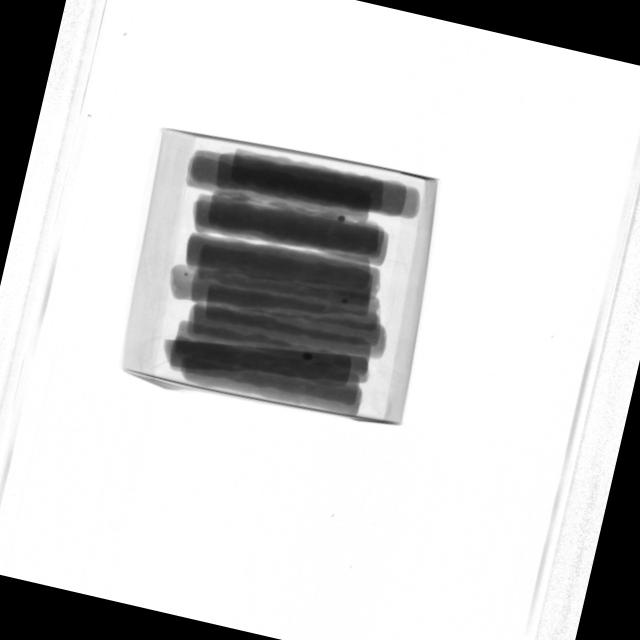ym: (301, 351, 315, 363), (337, 214, 346, 223), (341, 298, 349, 306), (183, 272, 189, 278)
